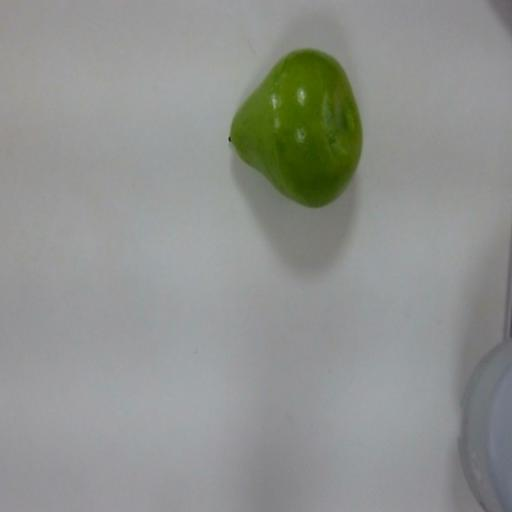Unripe: (223, 33, 373, 222)
